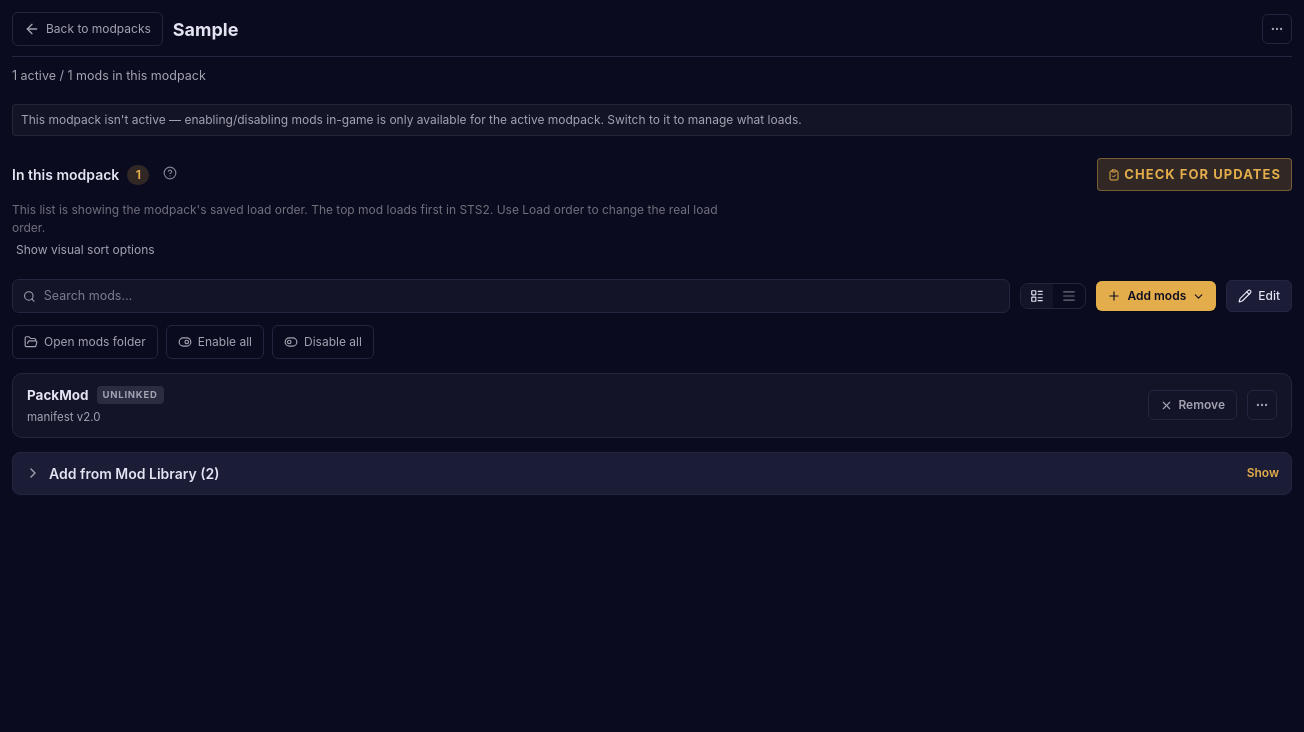
<ModpackDetail> › typing in the in-pack search auto-opens and filters Add-from-Library, matching tags
# One query, both sections: type a TAG into the in-pack table's search.
Step 1. Type "anime" into the field named "Search mod library" → (522, 296), box [44,287,1000,306]
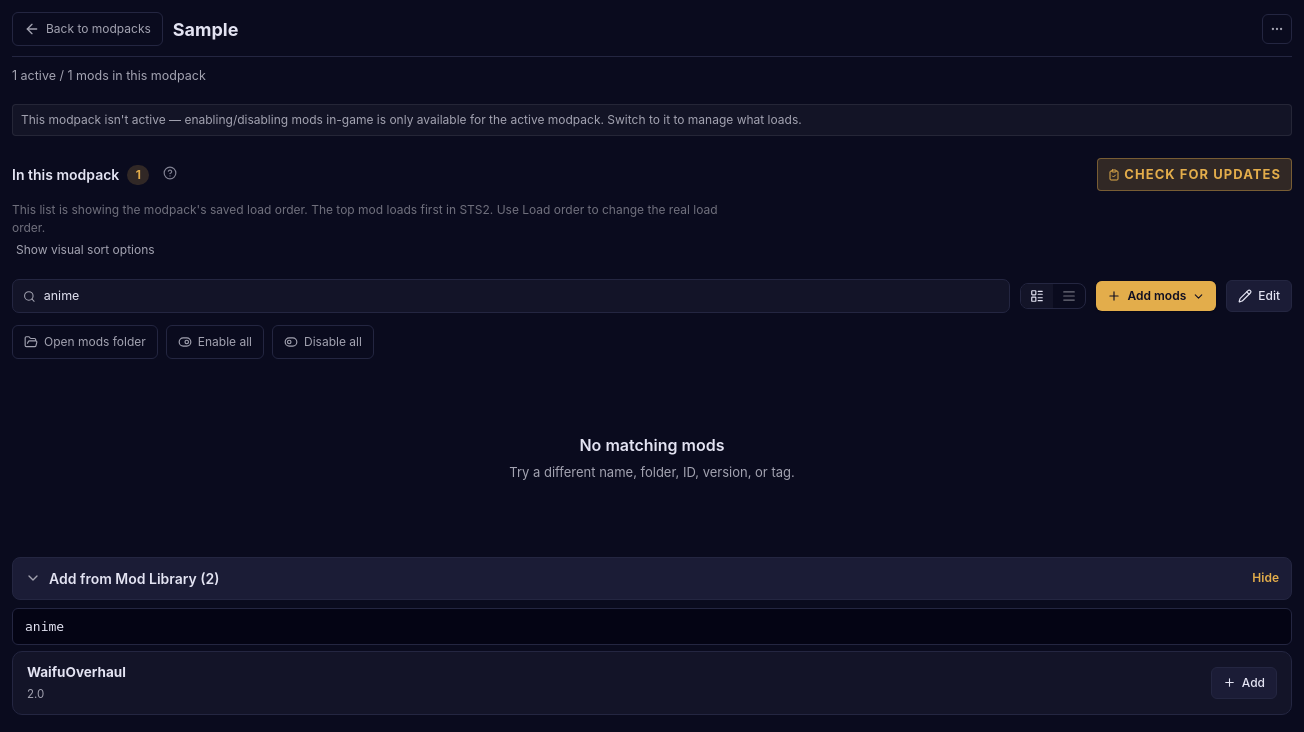
Expected: the text "PlainUtility" is not shown
Expected: the text "WaifuOverhaul" is shown, [27,662,126,682]
Expected: the text "No matching mods" is shown, [580,433,725,457]
# Clearing the search restores the unfiltered available list.
Step 2. Clear the field named "Search mod library" → (522, 296), box [44,287,1000,306]
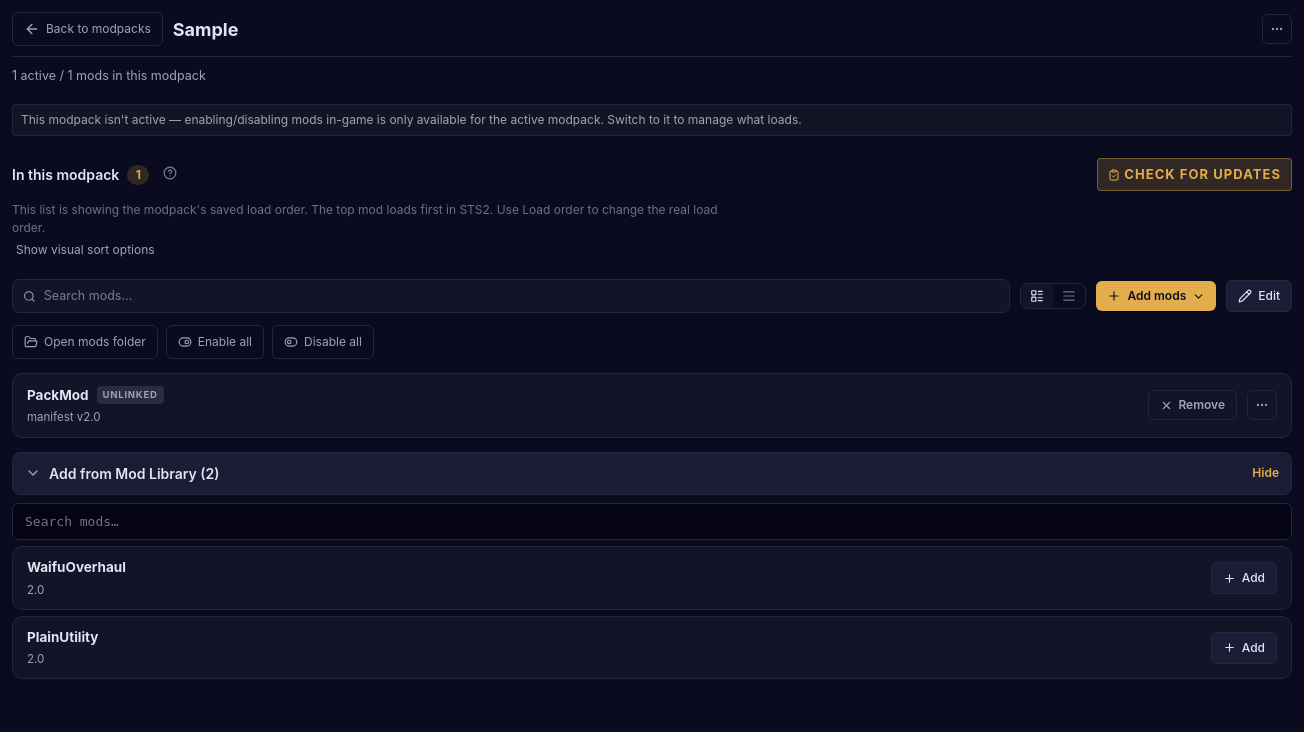
Expected: the text "PlainUtility" is shown, [27,627,98,647]
